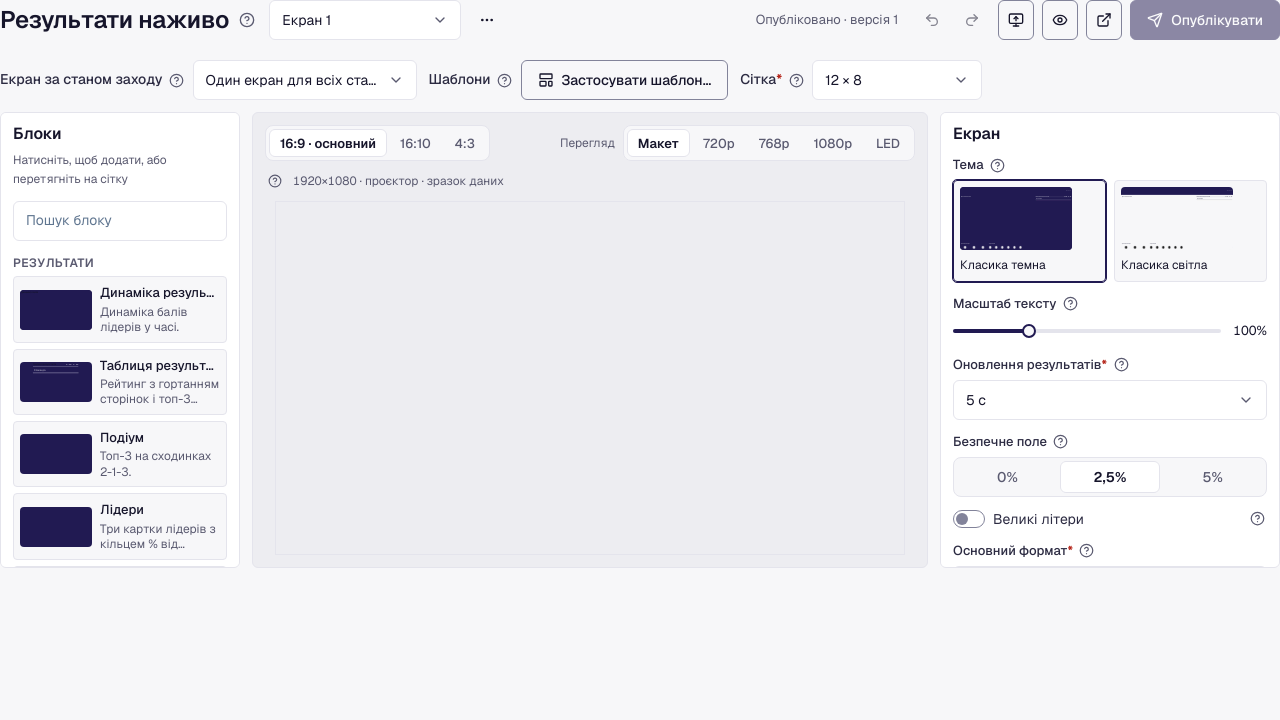
live editor › applies a layout template to the scene being edited and marks later edits
The width and height of the screenshot is (1280, 720).
Click the button "Застосувати шаблон…" at (624, 80), box [521,60,728,100]
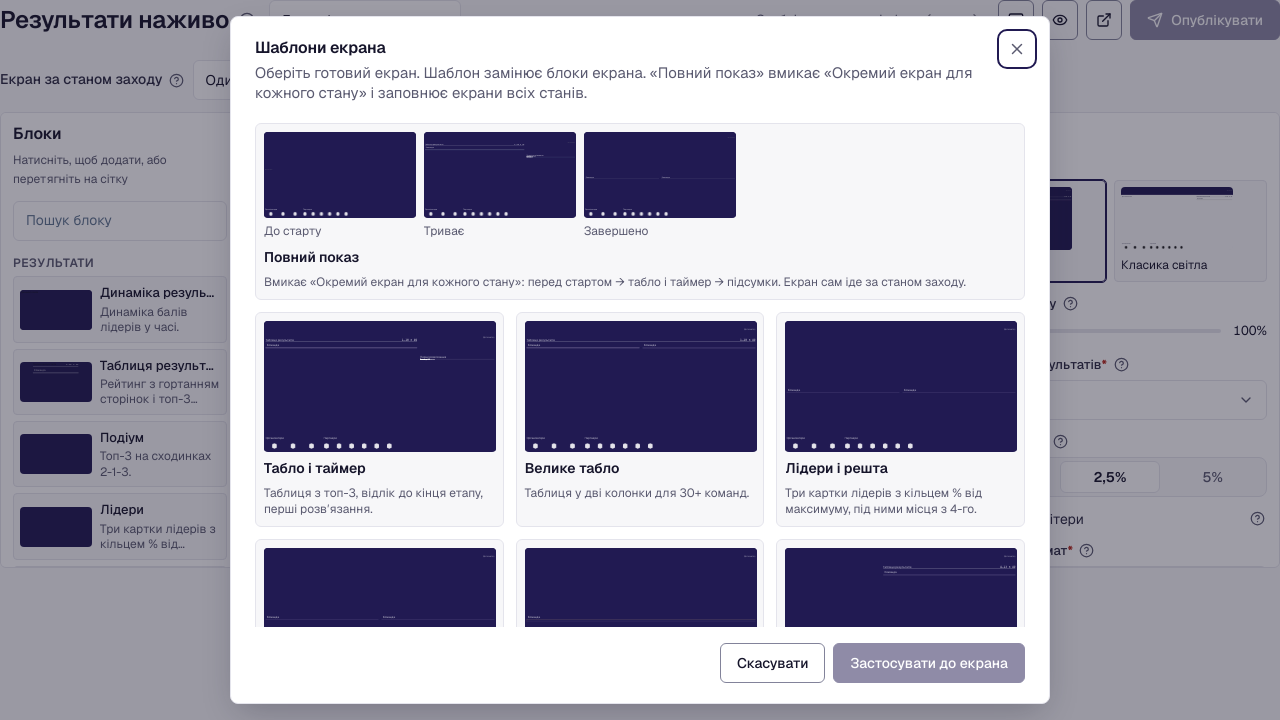
Now the 1st element with class "live-canvas" is shown, box [264,132,416,218]
Now the 7th element with class "live-canvas" is shown, box [264,321,496,451]
Now the 8th element with class "live-canvas" is shown, box [525,321,757,451]
Click the radio button named "Велике табло" at (640, 419), box [516,312,764,527]
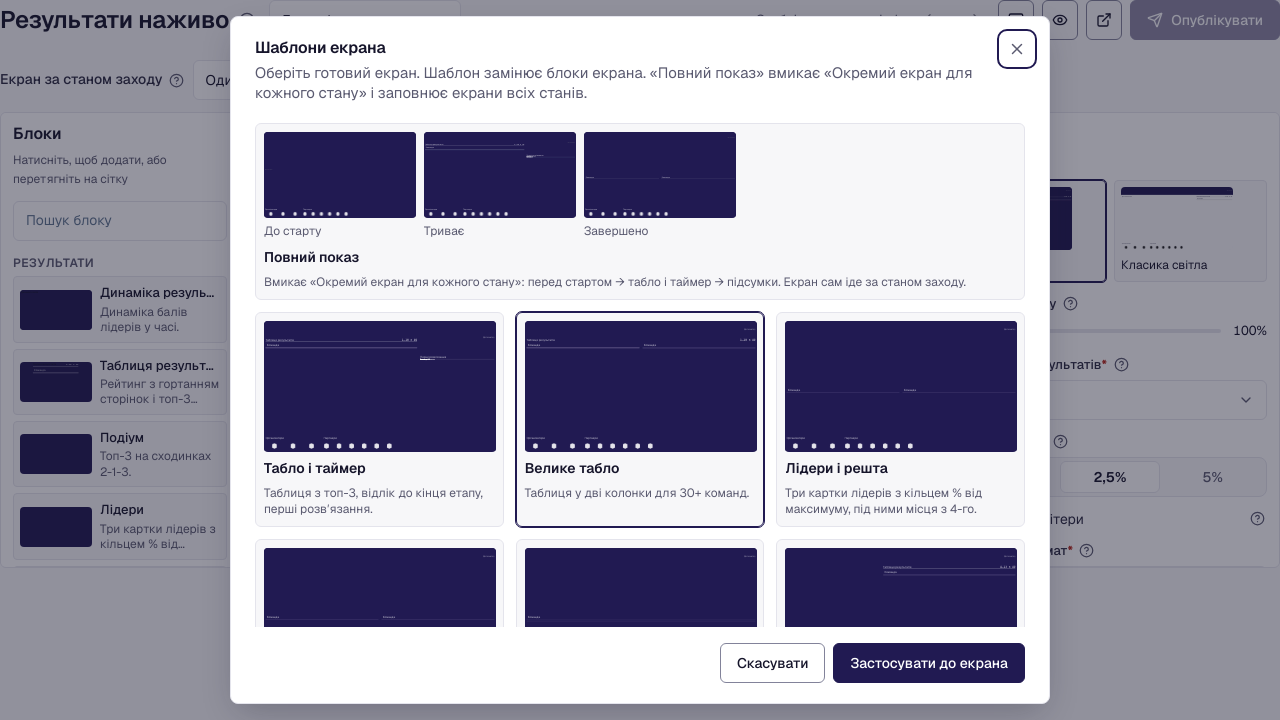
Now the radio button named "Велике табло" is checked, box [516,312,764,527]
Click the button "Застосувати до екрана" at (929, 663), box [834,643,1025,683]
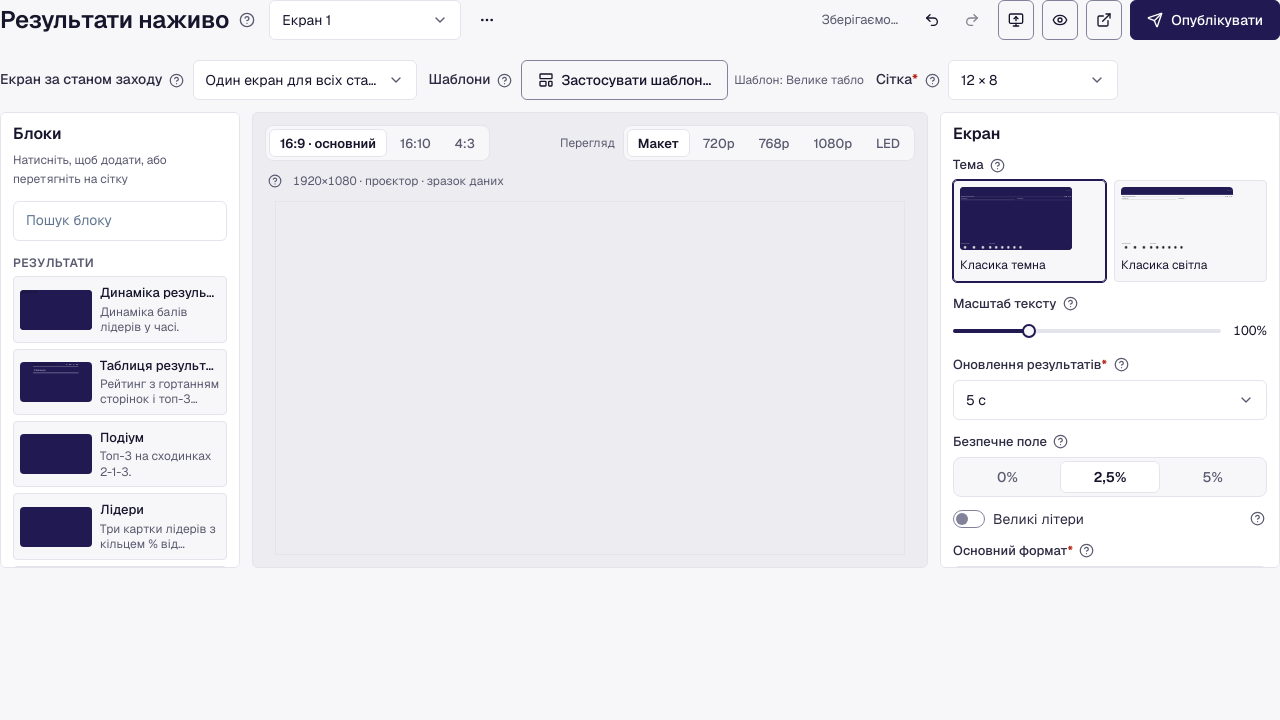
Now the text "Шаблон: Велике табло" is shown, box [734,71,864,89]
Click the radio button named "Класика світла" at (1190, 231), box [1114,180,1267,282]
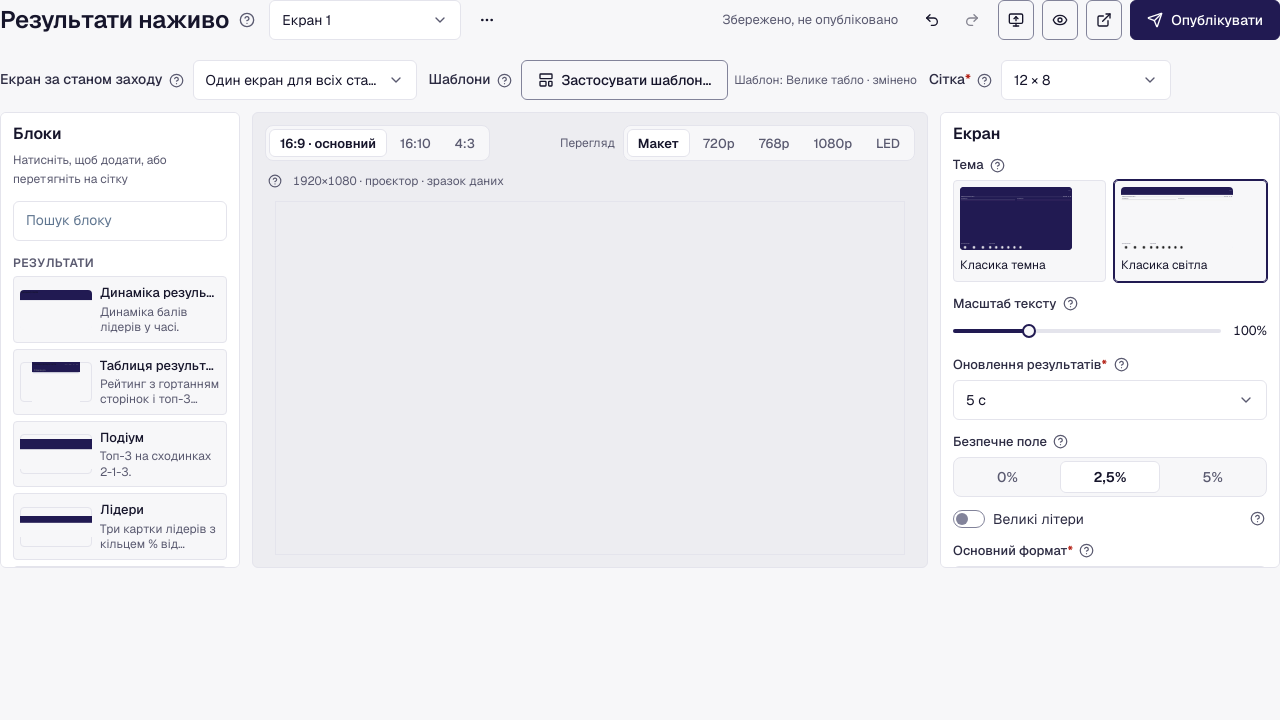
Now the text "Шаблон: Велике табло · змінено" is shown, box [734,71,917,89]
